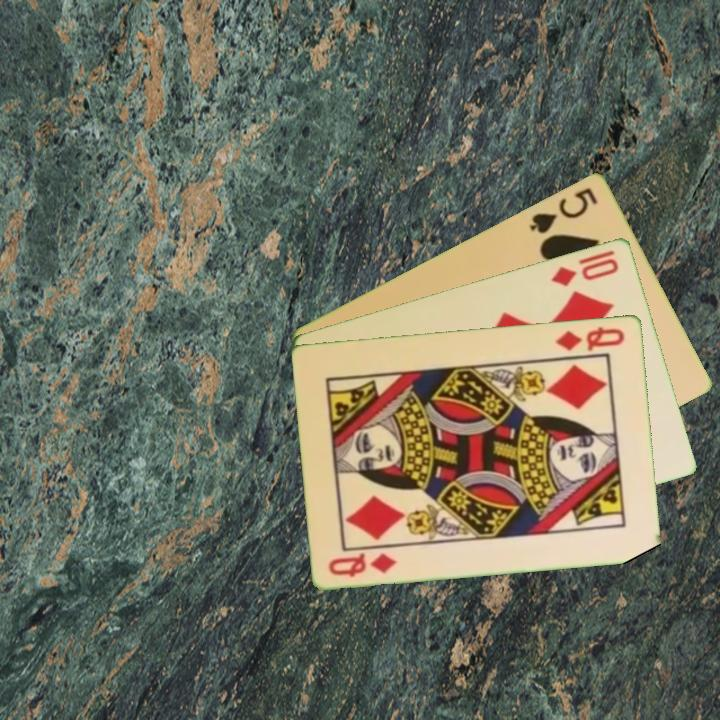10d: (547, 254, 622, 289)
5s: (526, 183, 601, 237)
Qd: (552, 322, 628, 354), (325, 549, 400, 580)
